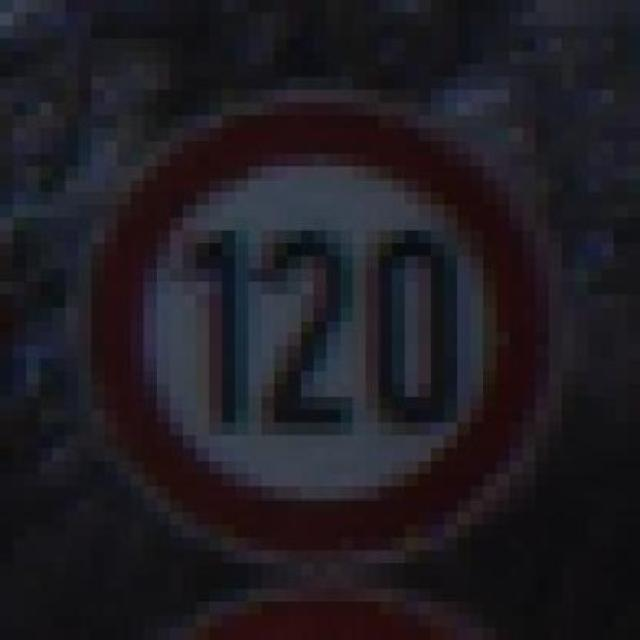forb_speed_over_120: (97, 105, 546, 556)
